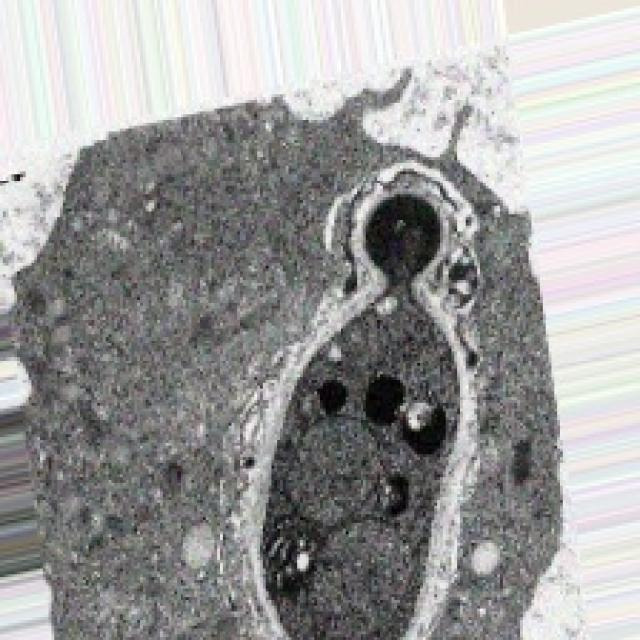Rod_bacteria: (6, 43, 580, 637)
